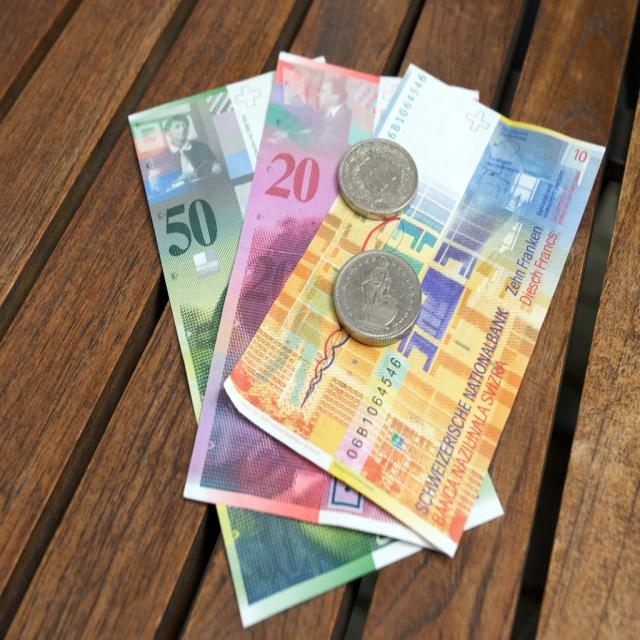Coin: (334, 250, 422, 343), (336, 131, 420, 224)
